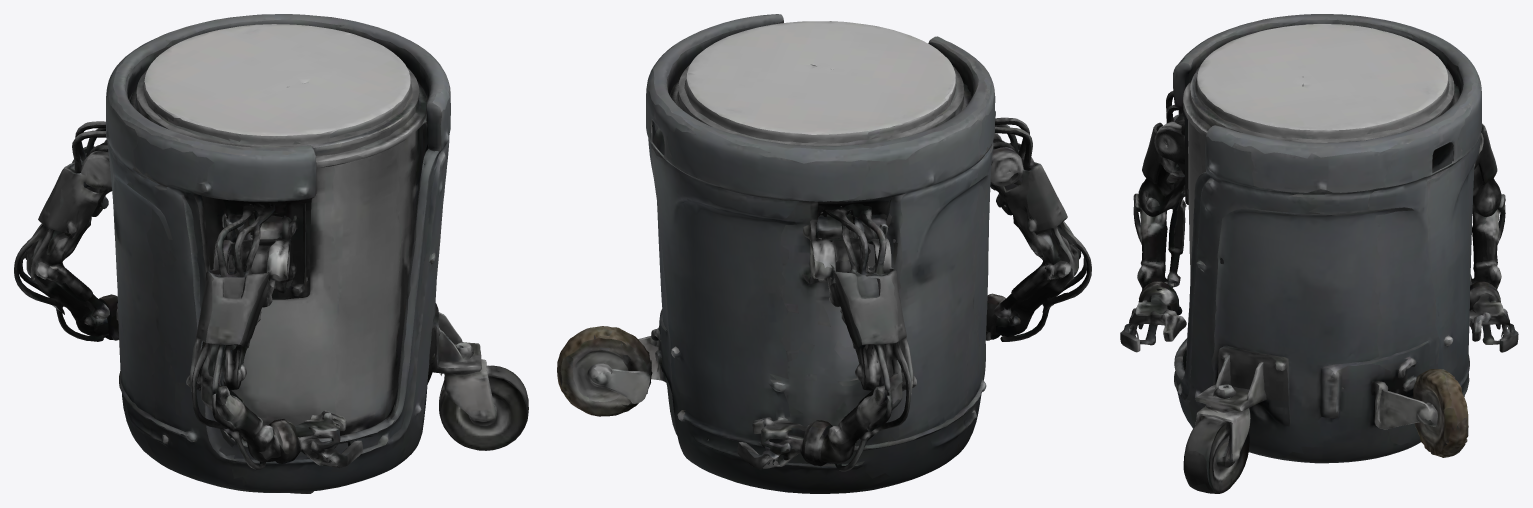
3 renders of one model, left to right at view 1: azimuth 30°, elevation 25°; view 2: azimuth 150°, elevation 25°; view 3: azimuth 270°, elevation 25°, orthographic. The views are drawn at different scales.
Visible parts, largest first — view 1: geometry_0; view 2: geometry_0; view 3: geometry_0.
Part boxes in pixels (x1,y1,x2,y2): geometry_0: (14, 14, 528, 493); geometry_0: (557, 14, 1091, 493); geometry_0: (1120, 14, 1518, 493).
Bounding box in the file's own units: 0.6305 × 0.6 × 0.6296.
1 material, 1 textured.
